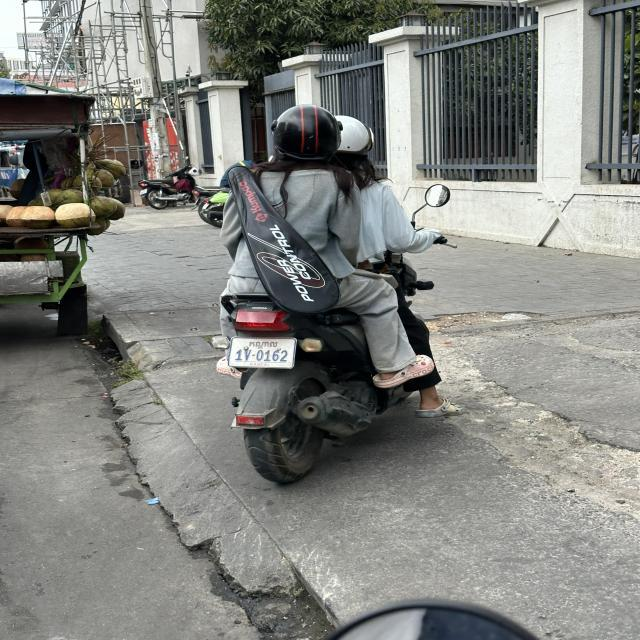Kandal: (247, 339, 279, 349)
